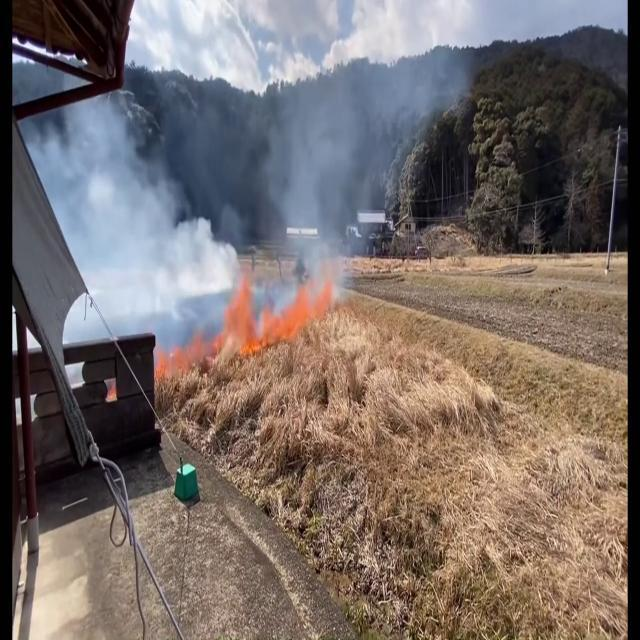Fire: (195, 258, 344, 369)
Smoke: (238, 0, 468, 291), (37, 94, 234, 342)
